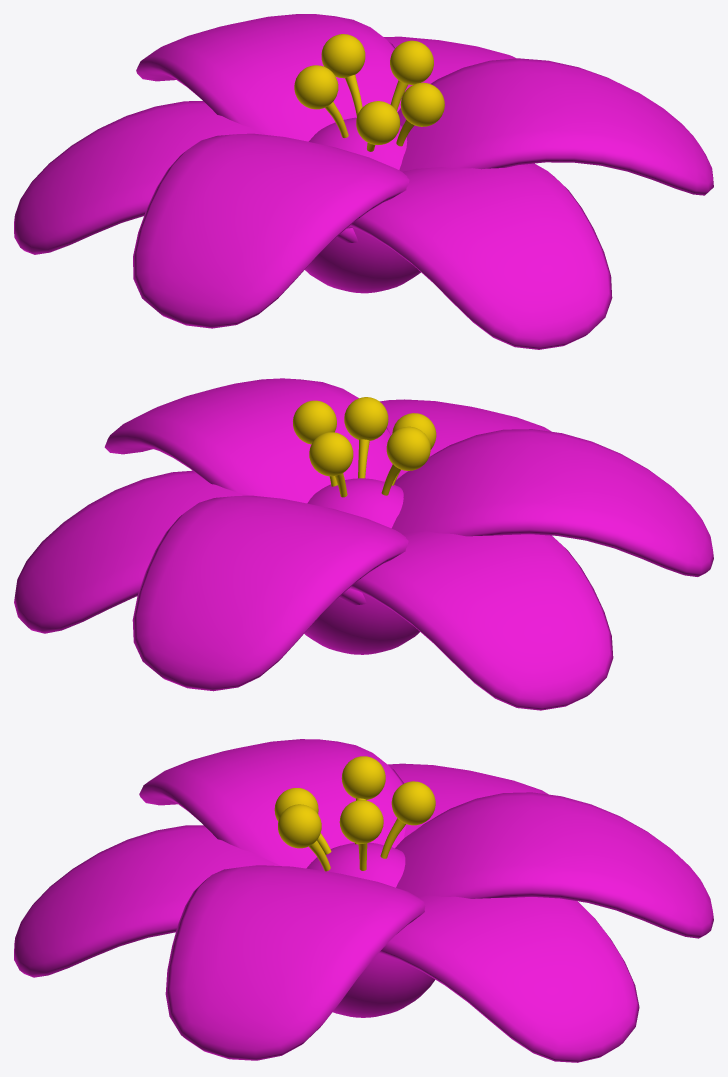
The model's file is cicek (3).fbx.
The picture shows the model from 3 angles, top to bottom: view 1: azimuth 30°, elevation 25°; view 2: azimuth 150°, elevation 25°; view 3: azimuth 270°, elevation 25°; orthographic projection.
Parts seen in each view (by area): view 1: Plane.002, Cylinder.003, Sphere; view 2: Plane.002, Cylinder.003, Sphere; view 3: Plane.002, Cylinder.003, Sphere.
Part boxes in pixels (x1,y1,x2,y2): Plane.002: (14, 14, 713, 349); Cylinder.003: (294, 34, 444, 151); Sphere: (305, 117, 420, 293); Plane.002: (14, 378, 713, 710); Cylinder.003: (293, 397, 436, 497); Sphere: (304, 478, 419, 654); Plane.002: (14, 739, 713, 1062); Cylinder.003: (274, 756, 435, 871); Sphere: (306, 842, 434, 1017).
Size of the model in its own units: 93.61 by 35.75 by 98.32.
